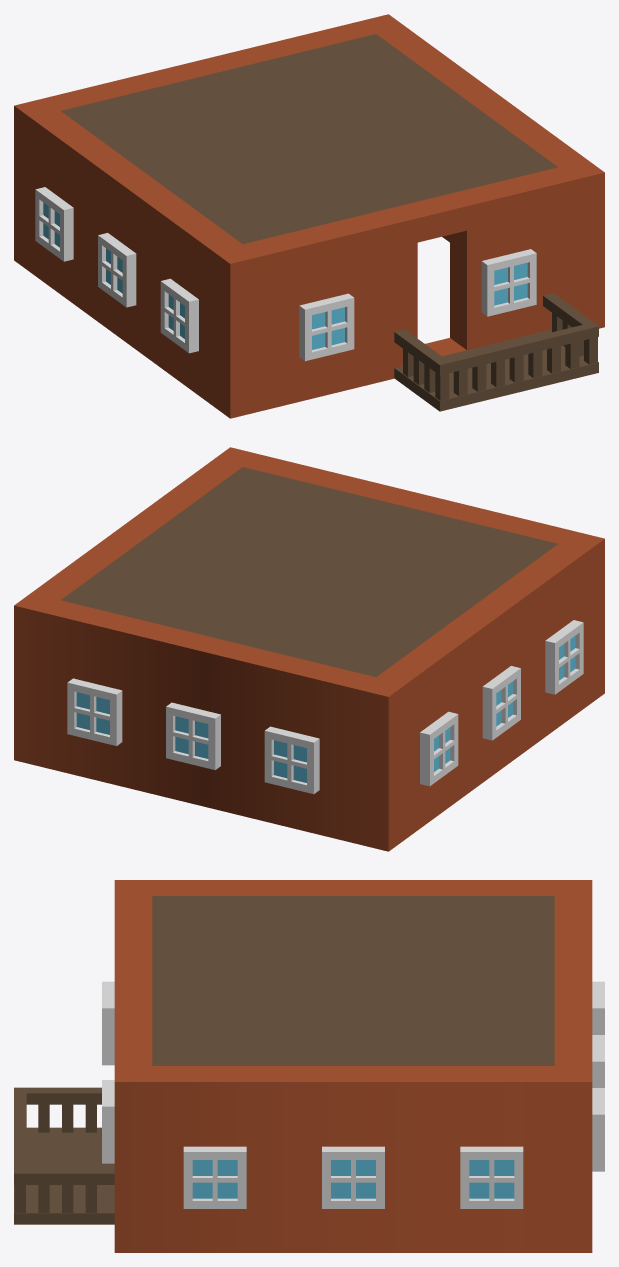
Rendered from balconyFloor.fbx.
3 renders of one model, top to bottom at view 1: azimuth 30°, elevation 25°; view 2: azimuth 150°, elevation 25°; view 3: azimuth 270°, elevation 25°, orthographic. The views are drawn at different scales.
Parts seen in each view (by area): view 1: BaseHouse, Balcony, Window8, Window7, Window1, Window2, Window; view 2: BaseHouse, Window5, Window4, Window3, Window2, Window1, Window; view 3: BaseHouse, Balcony, Window9, Window10, Window11, Window8, Window4, Window7, Window5, Window3.
Boxes of the visible parts, x1,y1,x2,y2 form: BaseHouse: (14, 14, 604, 418); Balcony: (394, 293, 598, 411); Window8: (299, 293, 354, 361); Window7: (481, 249, 536, 316); Window1: (35, 187, 73, 261); Window2: (160, 278, 198, 353); Window: (98, 233, 136, 307); BaseHouse: (14, 447, 604, 851); Window5: (264, 726, 319, 794); Window4: (67, 678, 122, 745); Window3: (166, 702, 220, 769); Window2: (545, 620, 583, 694); Window1: (420, 711, 458, 786); Window: (482, 666, 520, 740); BaseHouse: (114, 880, 592, 1252); Balcony: (14, 1087, 114, 1224); Window9: (183, 1146, 246, 1208); Window10: (460, 1146, 523, 1208); Window11: (322, 1146, 384, 1208); Window8: (102, 981, 114, 1065); Window4: (592, 1088, 604, 1171); Window7: (102, 1080, 114, 1163); Window5: (592, 981, 604, 1034); Window3: (592, 1035, 604, 1087).
Bounding box in the file's own units: 10 × 3.75 × 11.75.
